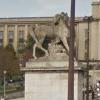Statue: (13, 9, 87, 70)
